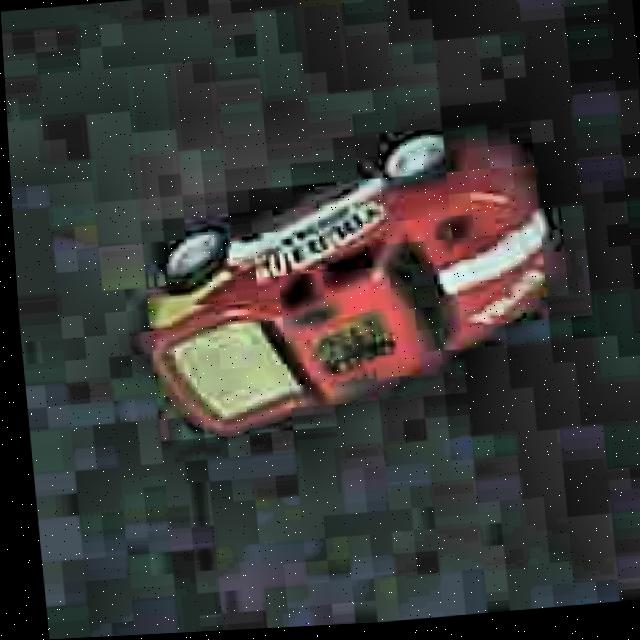car: (123, 119, 569, 451)
